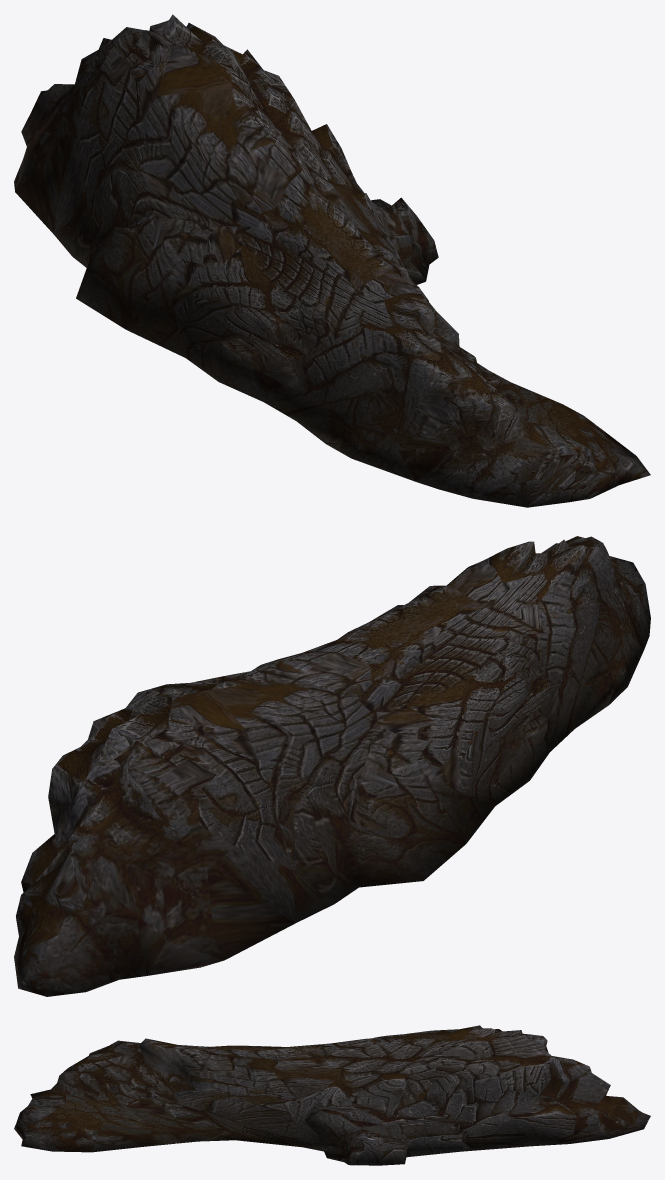
File: Rock_02_Broken_Ridge_LOD2.fbx
3 views of the same model, one above another, from view 1: azimuth 30°, elevation 25°; view 2: azimuth 150°, elevation 25°; view 3: azimuth 270°, elevation 25° (orthographic). The views are drawn at different scales.
Parts seen in each view (by area): view 1: Rock_02_Broken_Ridge_LOD2; view 2: Rock_02_Broken_Ridge_LOD2; view 3: Rock_02_Broken_Ridge_LOD2.
Part boxes in pixels (left/top/right/bottom): Rock_02_Broken_Ridge_LOD2: left=14, top=14, right=650, bottom=507; Rock_02_Broken_Ridge_LOD2: left=14, top=536, right=650, bottom=996; Rock_02_Broken_Ridge_LOD2: left=14, top=1025, right=650, bottom=1165.
Size of the model in its own units: 51.92 by 26.53 by 156.
